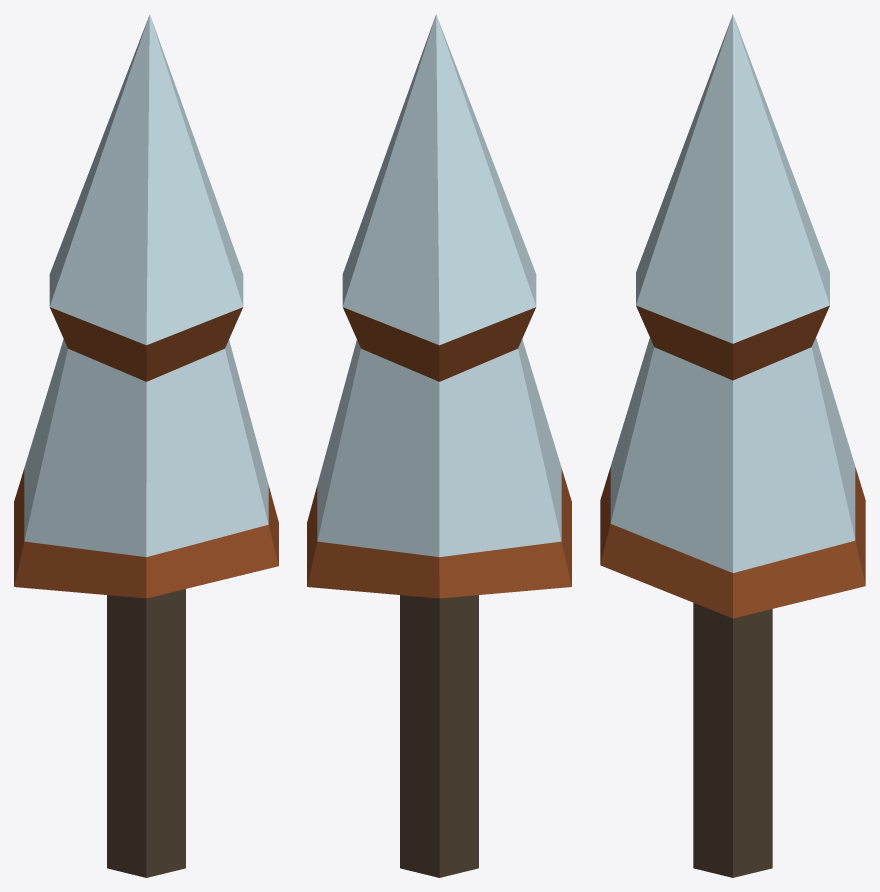
Rendered from SM_Env_Generic_Tree_02_Snow.fbx.
3 renders of one model, left to right at view 1: azimuth 30°, elevation 25°; view 2: azimuth 150°, elevation 25°; view 3: azimuth 270°, elevation 25°, orthographic.
Visible parts, largest first — view 1: SM_Env_Generic_Tree_02_Snow; view 2: SM_Env_Generic_Tree_02_Snow; view 3: SM_Env_Generic_Tree_02_Snow.
Part boxes in pixels (box(x1,y1,x2,y2)): SM_Env_Generic_Tree_02_Snow: box(14, 14, 278, 877); SM_Env_Generic_Tree_02_Snow: box(307, 14, 571, 877); SM_Env_Generic_Tree_02_Snow: box(600, 14, 865, 877).
Bounding box in the file's own units: 43 × 131 × 37.24.
1 material, 1 textured.
